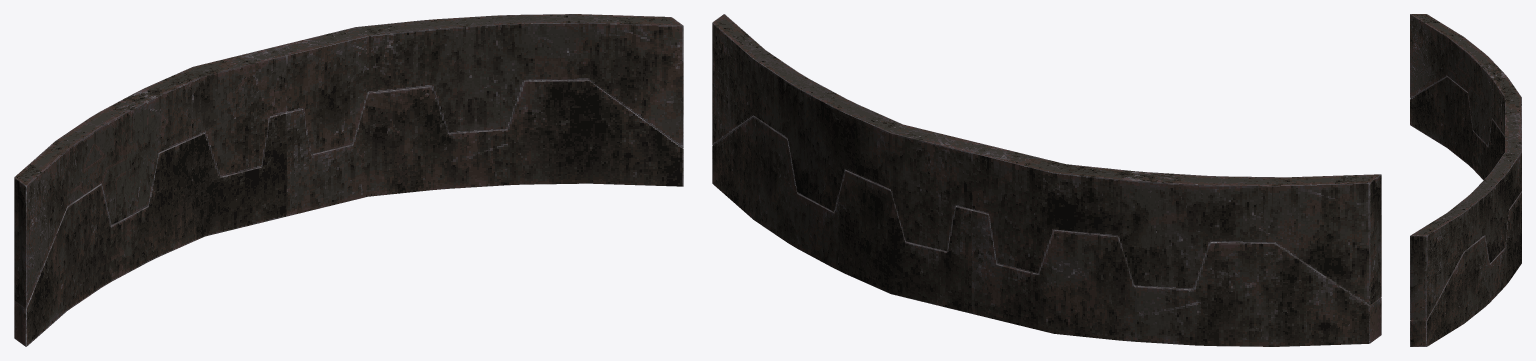
File: tooth_door.gltf
3 views of the same model, side by side, from view 1: azimuth 30°, elevation 25°; view 2: azimuth 150°, elevation 25°; view 3: azimuth 270°, elevation 25° (orthographic). The views are drawn at different scales.
Parts seen in each view (by area): view 1: Watchtower.002, Watchtower.001; view 2: Watchtower.002, Watchtower.001; view 3: Watchtower.002, Watchtower.001.
Part boxes in pixels (x1,y1,x2,y2): Watchtower.002: (14, 14, 683, 308); Watchtower.001: (14, 79, 683, 346); Watchtower.002: (712, 14, 1381, 305); Watchtower.001: (712, 116, 1381, 346); Watchtower.002: (1410, 14, 1521, 320); Watchtower.001: (1410, 76, 1521, 346).
Bounding box in the file's own units: 62.41 × 14.57 × 13.29.
1 material, 1 textured.
